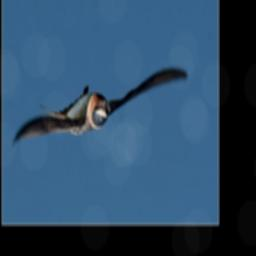Swallow: (13, 70, 189, 152)
